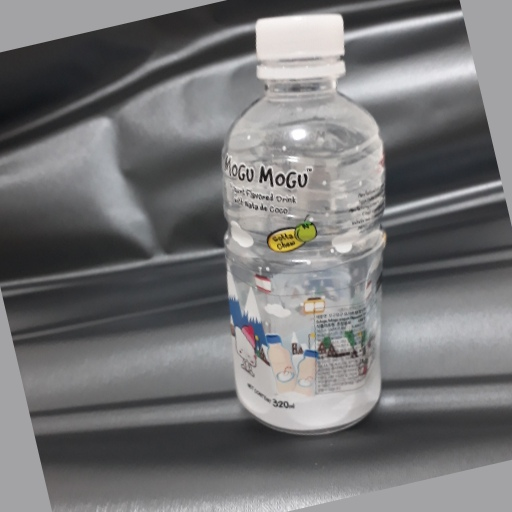Plastic_0: (224, 12, 387, 433)
